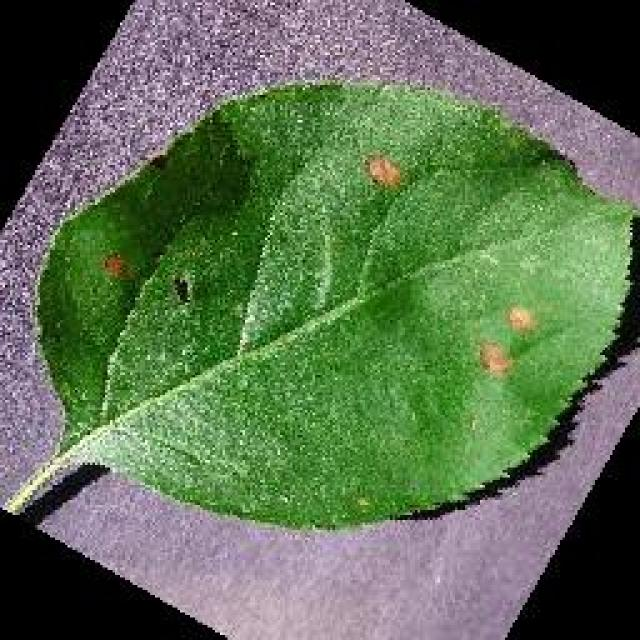apple healthy: (28, 75, 638, 530)
